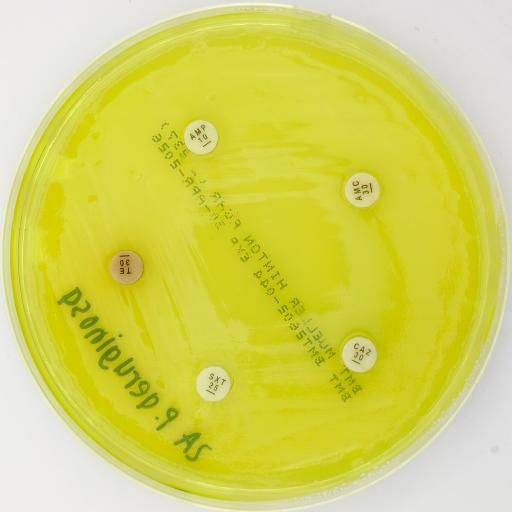disc: (196, 364, 232, 402), (340, 336, 378, 372), (343, 171, 380, 207), (182, 119, 218, 155), (108, 250, 144, 286)
